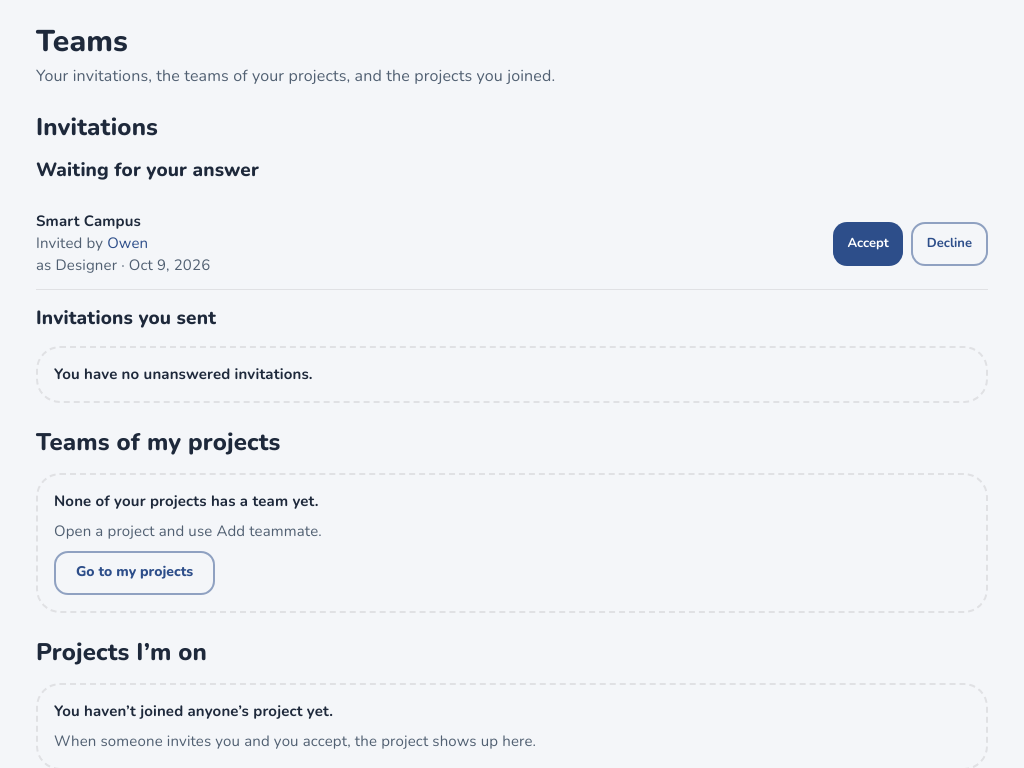
Scenario: incoming invitations › accepts for that project, says so, and refreshes the lists
This screenshot has width=1024, height=768.
Click the button with aria-label "Accept the invitation to Smart Campus" at (868, 244), box [833,222,903,266]
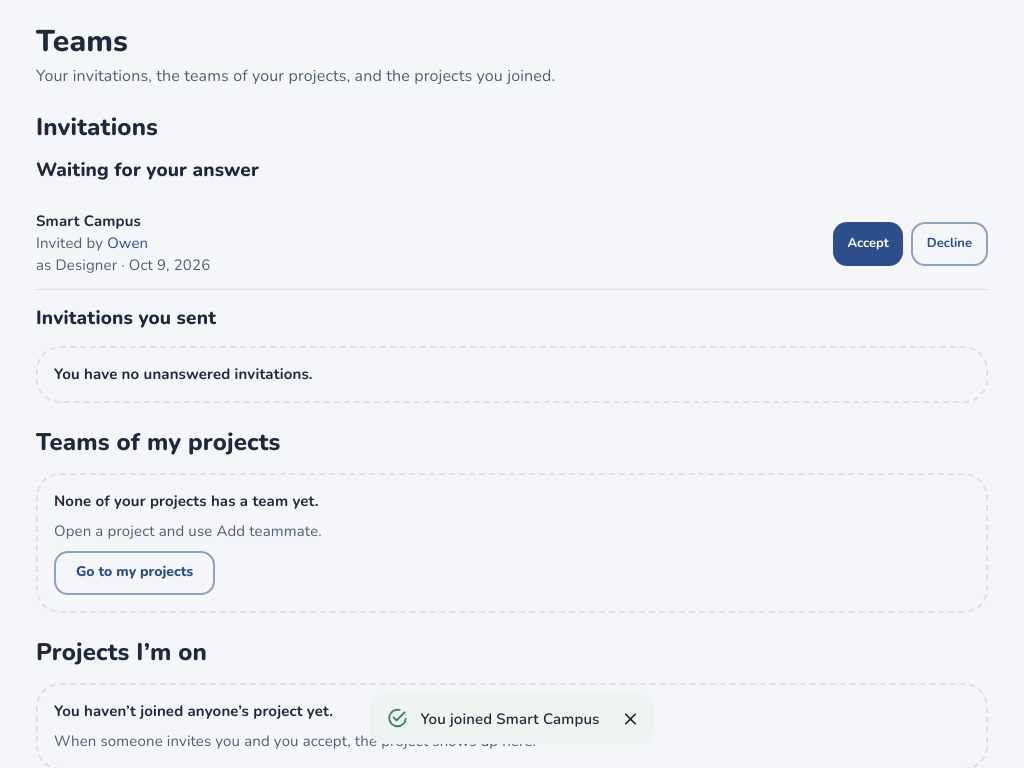
expect the text "You joined Smart Campus" is shown: met, box [420,708,600,728]
